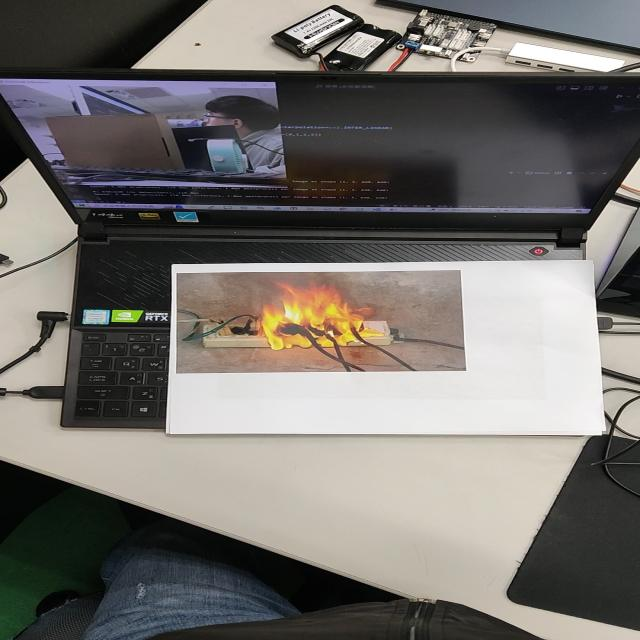person: (192, 90, 274, 171)
